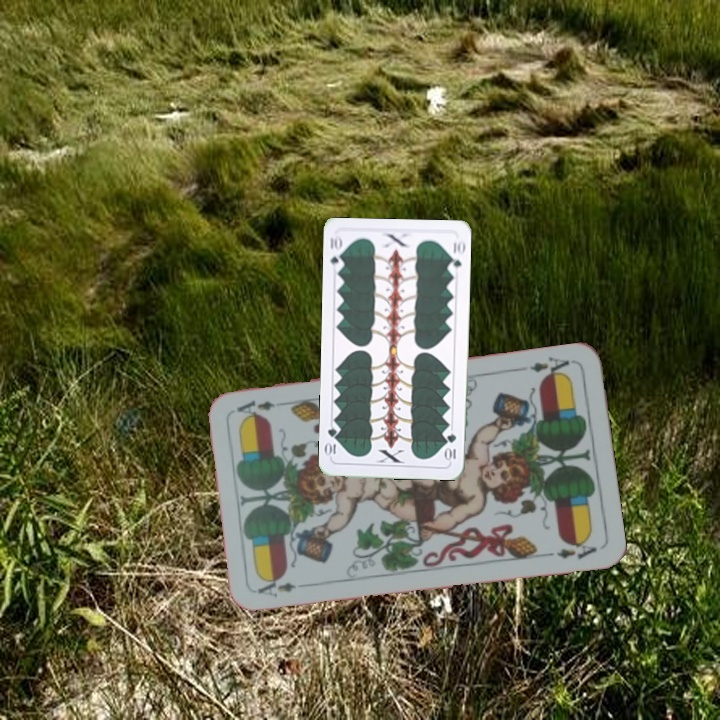EA: (526, 353, 576, 381), (253, 576, 299, 600)
G10: (326, 232, 345, 273), (442, 429, 459, 464)
